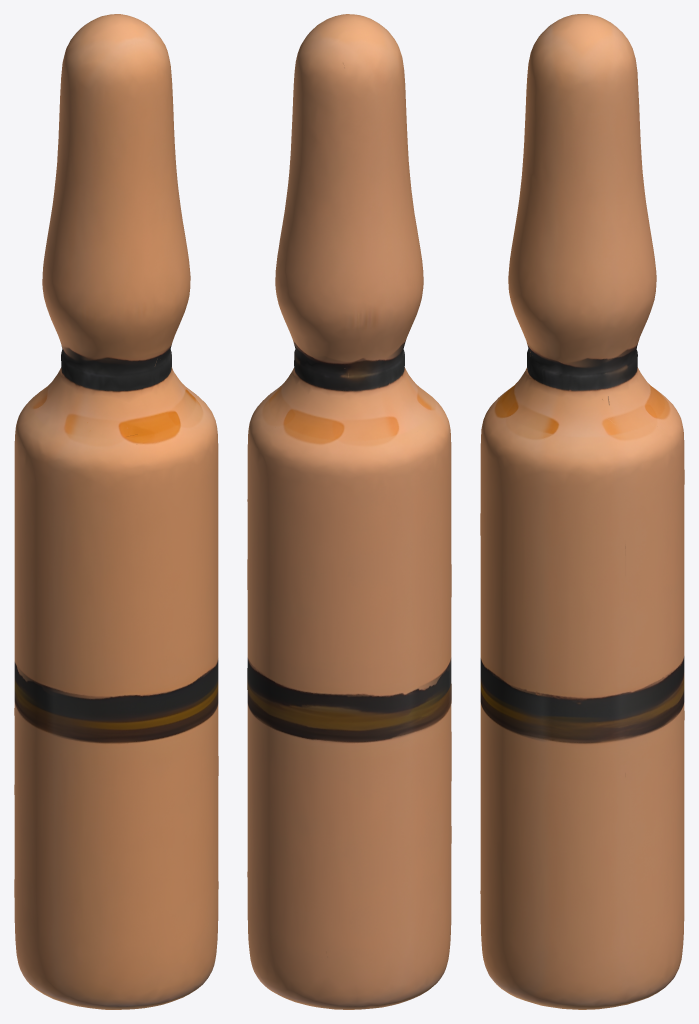
File: Ampolla.fbx
The picture shows the model from 3 angles, left to right: view 1: azimuth 30°, elevation 25°; view 2: azimuth 150°, elevation 25°; view 3: azimuth 270°, elevation 25°; orthographic projection.
Parts seen in each view (by area): view 1: Mesh1.001; view 2: Mesh1.001; view 3: Mesh1.001.
Boxes of the visible parts, left/top/right/bottom form: Mesh1.001: left=14, top=14, right=218, bottom=1009; Mesh1.001: left=247, top=14, right=451, bottom=1009; Mesh1.001: left=480, top=14, right=684, bottom=1009.
Bounding box in the file's own units: 0.3692 × 1.91 × 0.3694.
1 material, 1 textured.
